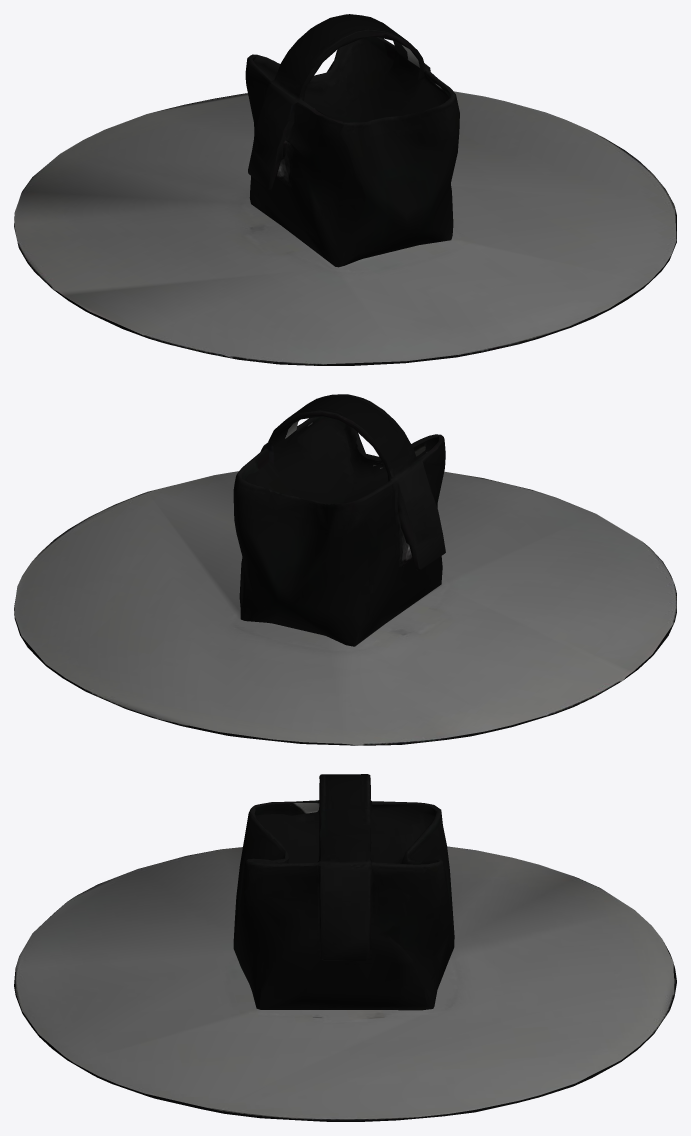
File: acessorios-no-texture-final.glb
The picture shows the model from 3 angles, top to bottom: view 1: azimuth 30°, elevation 25°; view 2: azimuth 150°, elevation 25°; view 3: azimuth 270°, elevation 25°; orthographic projection.
Visible parts, largest first — view 1: textured_mesh; view 2: textured_mesh; view 3: textured_mesh.
Boxes of the visible parts, x1=… form: textured_mesh: x1=14, y1=14, x2=676, y2=365; textured_mesh: x1=14, y1=394, x2=676, y2=745; textured_mesh: x1=14, y1=774, x2=676, y2=1121.
Bounding box in the file's own units: 1.99 × 0.6776 × 1.99.
Materials: 1 (1 with a texture image).
